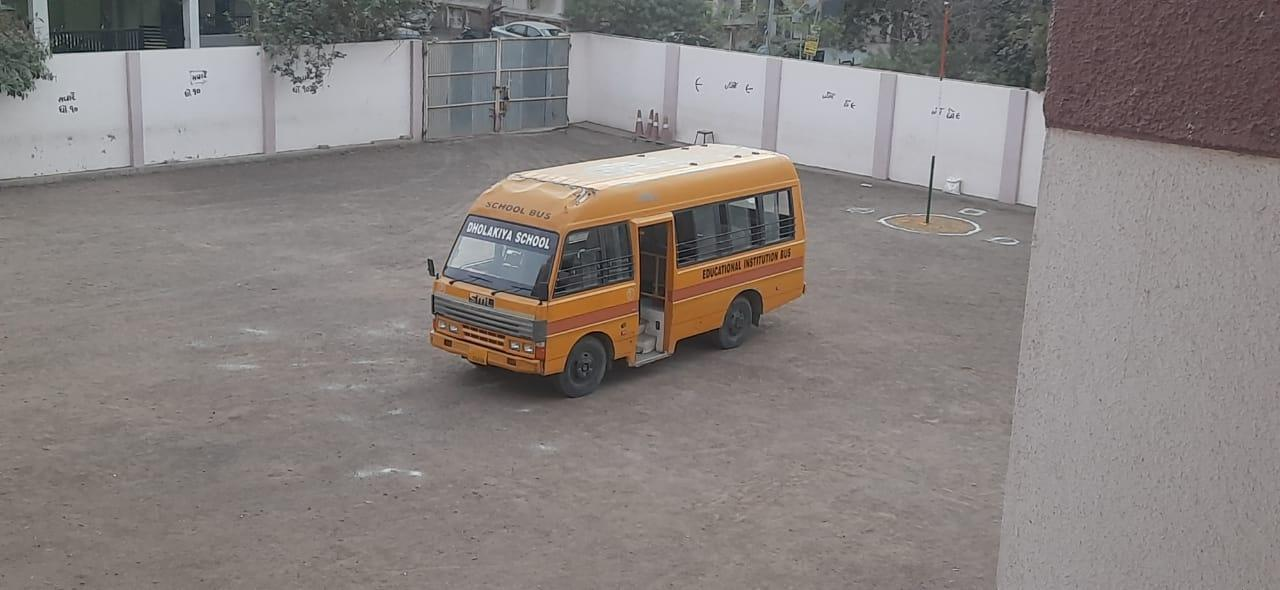Bus: (418, 134, 852, 402)
